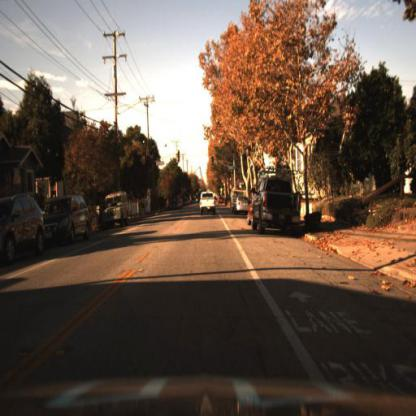car: (253, 159, 305, 241), (45, 190, 98, 254), (1, 193, 46, 265), (40, 195, 91, 246), (97, 187, 133, 236), (100, 187, 130, 227), (197, 185, 218, 223), (235, 186, 249, 217), (246, 192, 256, 228), (235, 195, 250, 218)
trafficLight-Green: (210, 152, 218, 170)
